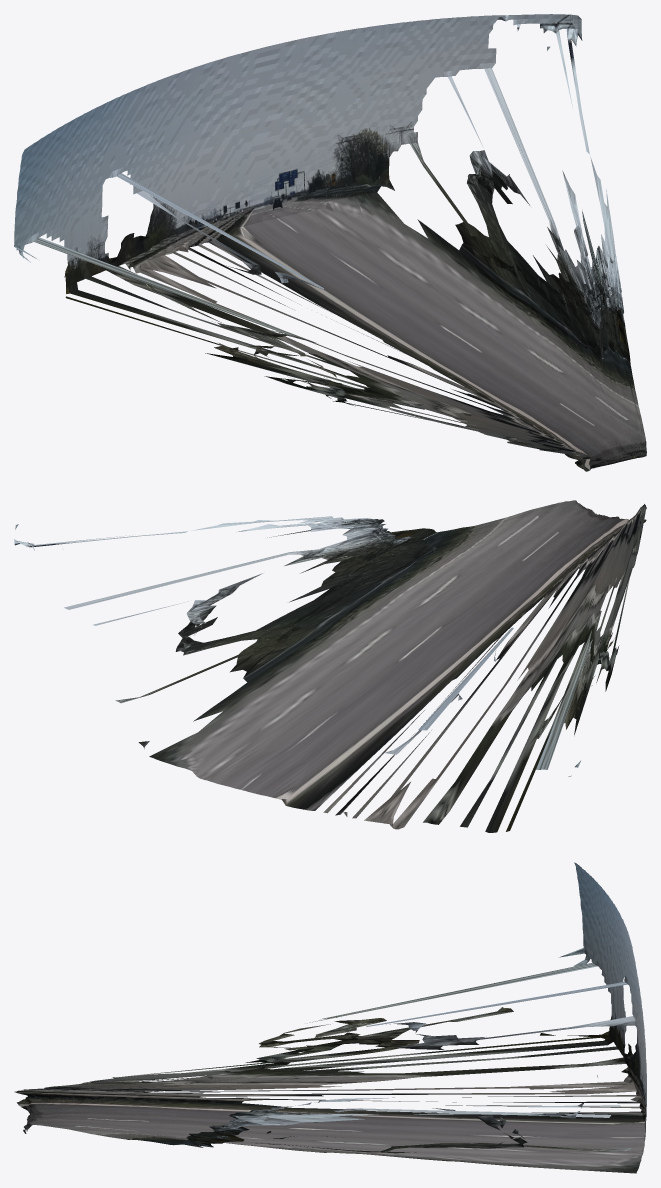
3 renders of one model, top to bottom at view 1: azimuth 30°, elevation 25°; view 2: azimuth 150°, elevation 25°; view 3: azimuth 270°, elevation 25°, orthographic. The views are drawn at different scales.
Parts seen in each view (by area): view 1: defaultobject; view 2: defaultobject; view 3: defaultobject.
Part boxes in pixels (<box>): defaultobject: <box>14,14,646,471</box>; defaultobject: <box>14,500,646,832</box>; defaultobject: <box>14,862,646,1173</box>.
Size of the model in its own units: 40.8 by 13.15 by 45.
Materials: 1 (1 with a texture image).
